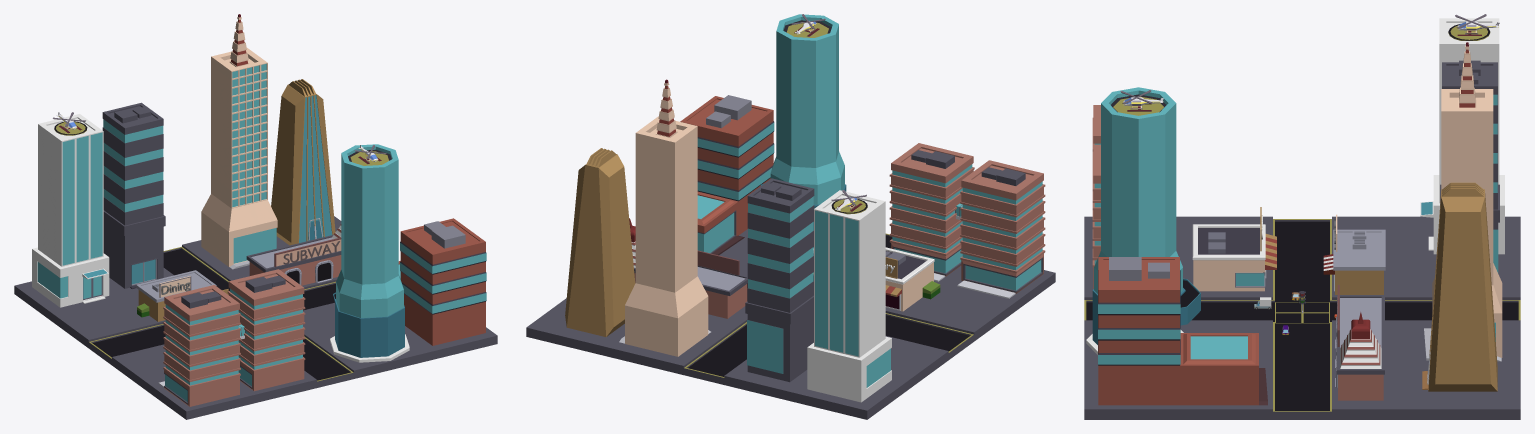
Rendered from wall_street_city.glb.
3 renders of one model, left to right at view 1: azimuth 30°, elevation 25°; view 2: azimuth 150°, elevation 25°; view 3: azimuth 270°, elevation 25°, orthographic. The views are drawn at different scales.
Parts seen in each view (by area): view 1: Cube; view 2: Cube; view 3: Cube.
Part boxes in pixels (x1=…): Cube: x1=14, y1=14, x2=497, y2=419; Cube: x1=526, y1=14, x2=1055, y2=419; Cube: x1=1084, y1=18, x2=1520, y2=419.
Bounding box in the file's own units: 188 × 141 × 180.
Materials: 8 (6 with a texture image).
